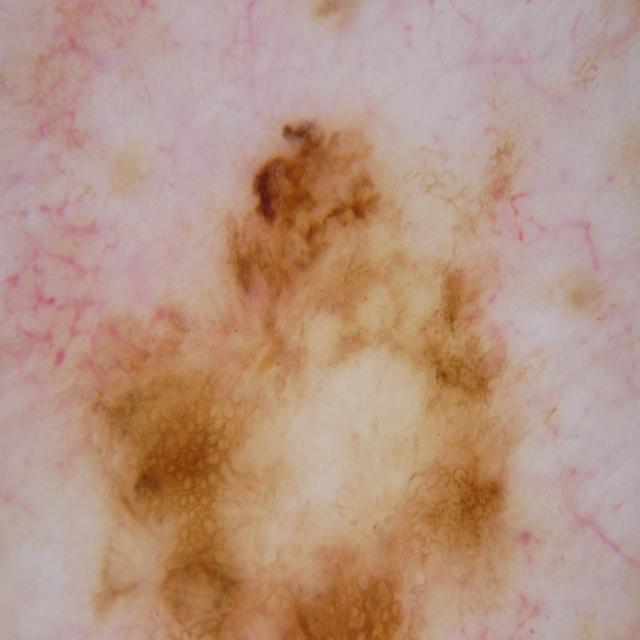Melanoma: (88, 103, 613, 640)
